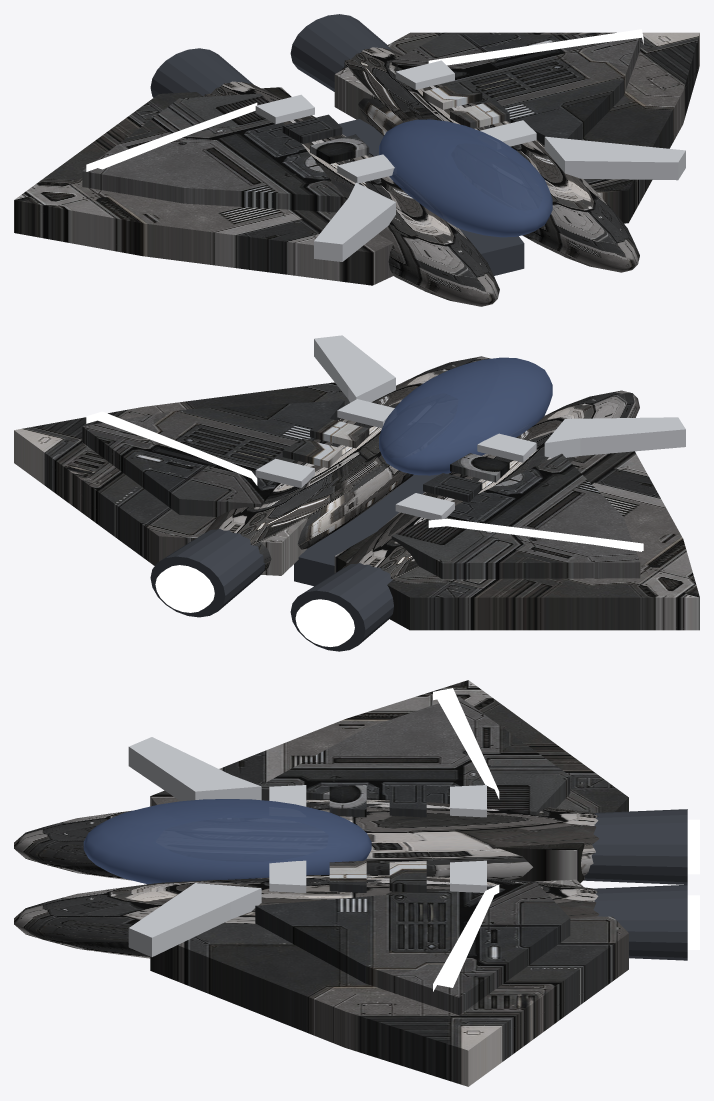
Rendered from aur-kiteglass-runner.glb.
3 views of the same model, one above another, from view 1: azimuth 30°, elevation 25°; view 2: azimuth 150°, elevation 25°; view 3: azimuth 270°, elevation 25° (orthographic). The views are drawn at different scales.
Parts seen in each view (by area): view 1: hull_primary, armor_secondary, canopy_glass, structure_light, mechanical_gunmetal, accent_energy; view 2: hull_primary, armor_secondary, canopy_glass, mechanical_gunmetal, structure_light, engine_glow, accent_energy; view 3: hull_primary, armor_secondary, canopy_glass, structure_light, mechanical_gunmetal, accent_energy, engine_glow.
Boxes of the visible parts, x1,y1,x2,y2 form: hull_primary: (14, 32, 699, 306); armor_secondary: (82, 34, 640, 212); canopy_glass: (379, 119, 552, 237); structure_light: (255, 60, 685, 261); mechanical_gunmetal: (150, 14, 524, 275); accent_energy: (86, 29, 643, 171); hull_primary: (14, 356, 699, 630); armor_secondary: (82, 400, 640, 578); canopy_glass: (379, 357, 552, 475); mechanical_gunmetal: (150, 473, 449, 651); structure_light: (255, 335, 685, 519); engine_glow: (155, 565, 354, 646); accent_energy: (86, 411, 643, 551); hull_primary: (14, 680, 628, 1086); armor_secondary: (255, 696, 570, 1014); canopy_glass: (83, 799, 371, 884); structure_light: (128, 737, 486, 957); mechanical_gunmetal: (583, 809, 687, 960); accent_energy: (433, 688, 499, 991); engine_glow: (687, 819, 699, 949).
Bounding box in the file's own units: 5.68 × 0.83 × 4.44.
7 materials, 2 textured.
